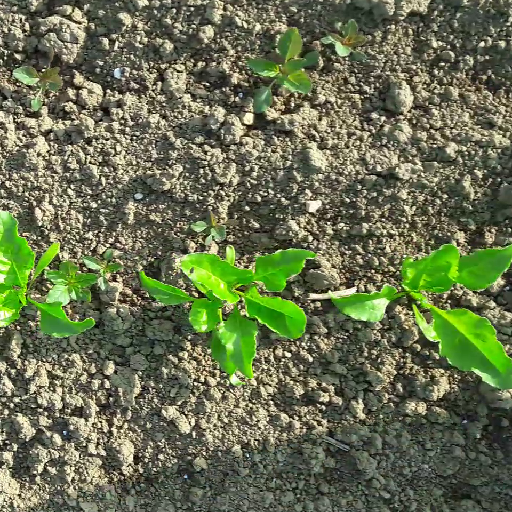sugarbeet: (325, 238, 512, 393), (135, 243, 320, 383), (1, 204, 98, 341)
weed: (244, 26, 322, 115), (39, 257, 101, 308), (10, 48, 60, 109), (316, 16, 367, 63), (186, 207, 238, 248), (79, 247, 125, 290)
